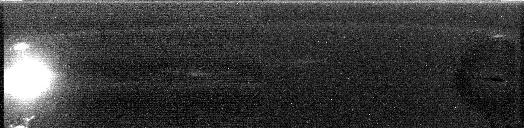positive: (8, 38, 33, 57)
